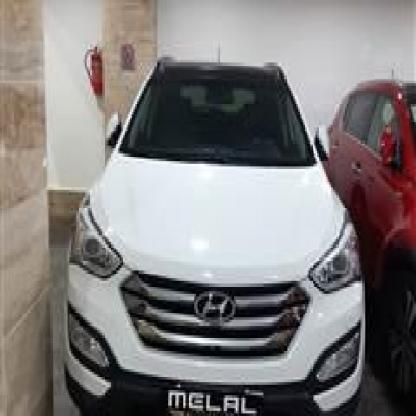Car: (66, 52, 369, 416), (320, 65, 416, 366)
